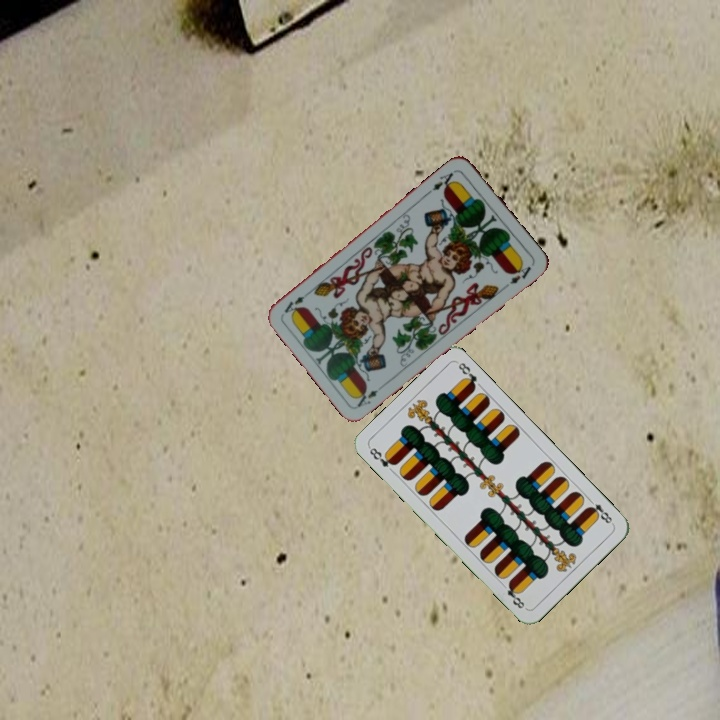E8: (583, 494, 616, 527), (365, 443, 399, 470)
EA: (351, 380, 388, 410), (424, 166, 459, 196)
